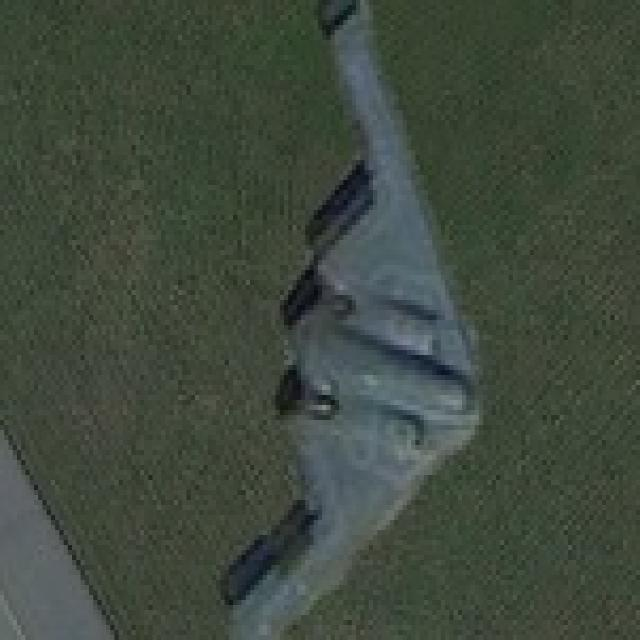B-2_TopDown: (203, 0, 488, 635)
